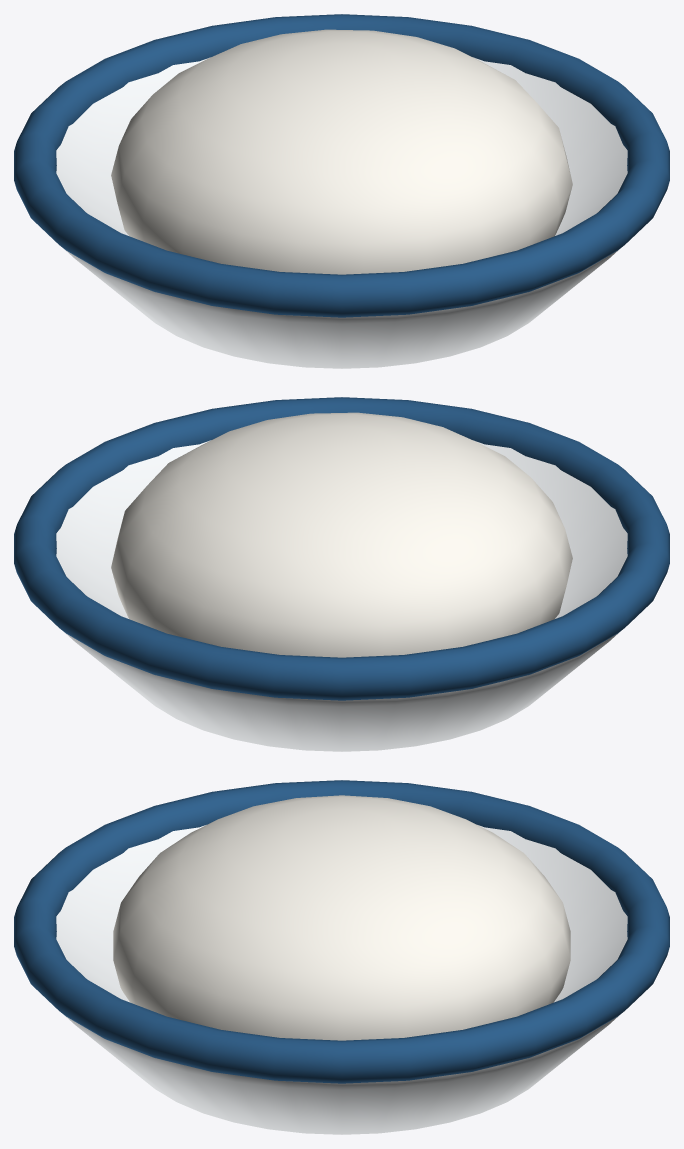
Rendered from wok_food_bowl_rice.glb.
3 renders of one model, top to bottom at view 1: azimuth 30°, elevation 25°; view 2: azimuth 150°, elevation 25°; view 3: azimuth 270°, elevation 25°, orthographic.
Bounding box in the file's own units: 0.214 × 0.0825 × 0.2128.
